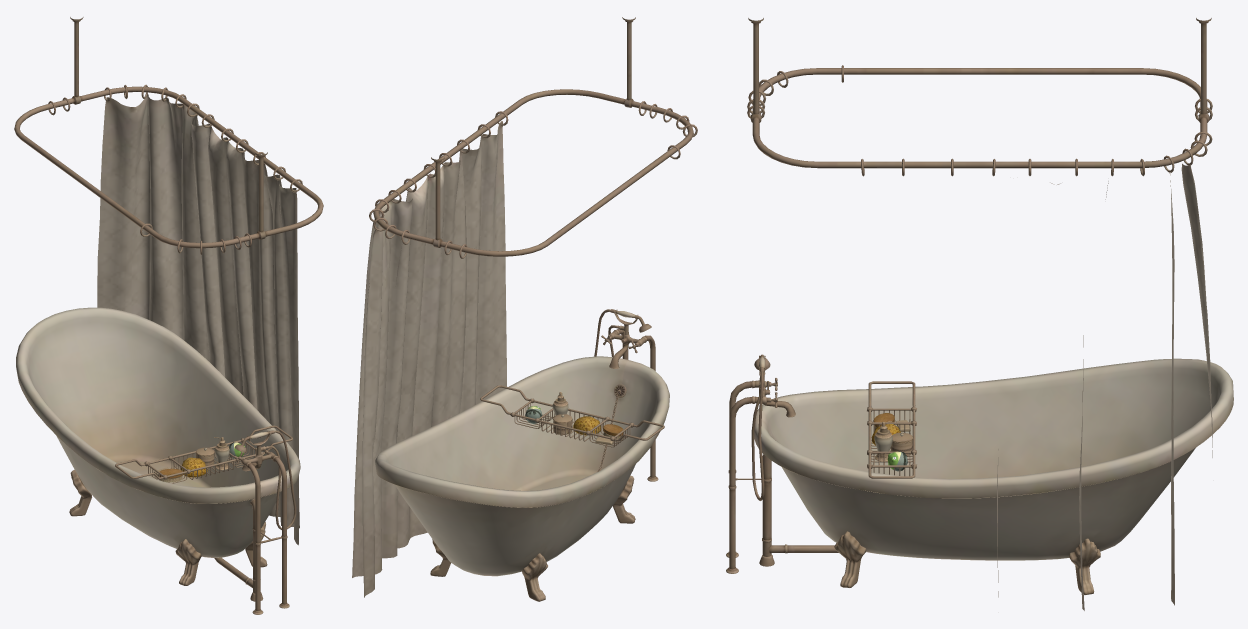
Rendered from SM_bathtub_Set2_64e4d4.glb.
3 views of the same model, side by side, from view 1: azimuth 30°, elevation 25°; view 2: azimuth 150°, elevation 25°; view 3: azimuth 270°, elevation 25° (orthographic). The views are drawn at different scales.
Size of the model in its own units: 1.39 by 3.1 by 2.61.
7 materials, 7 textured.
